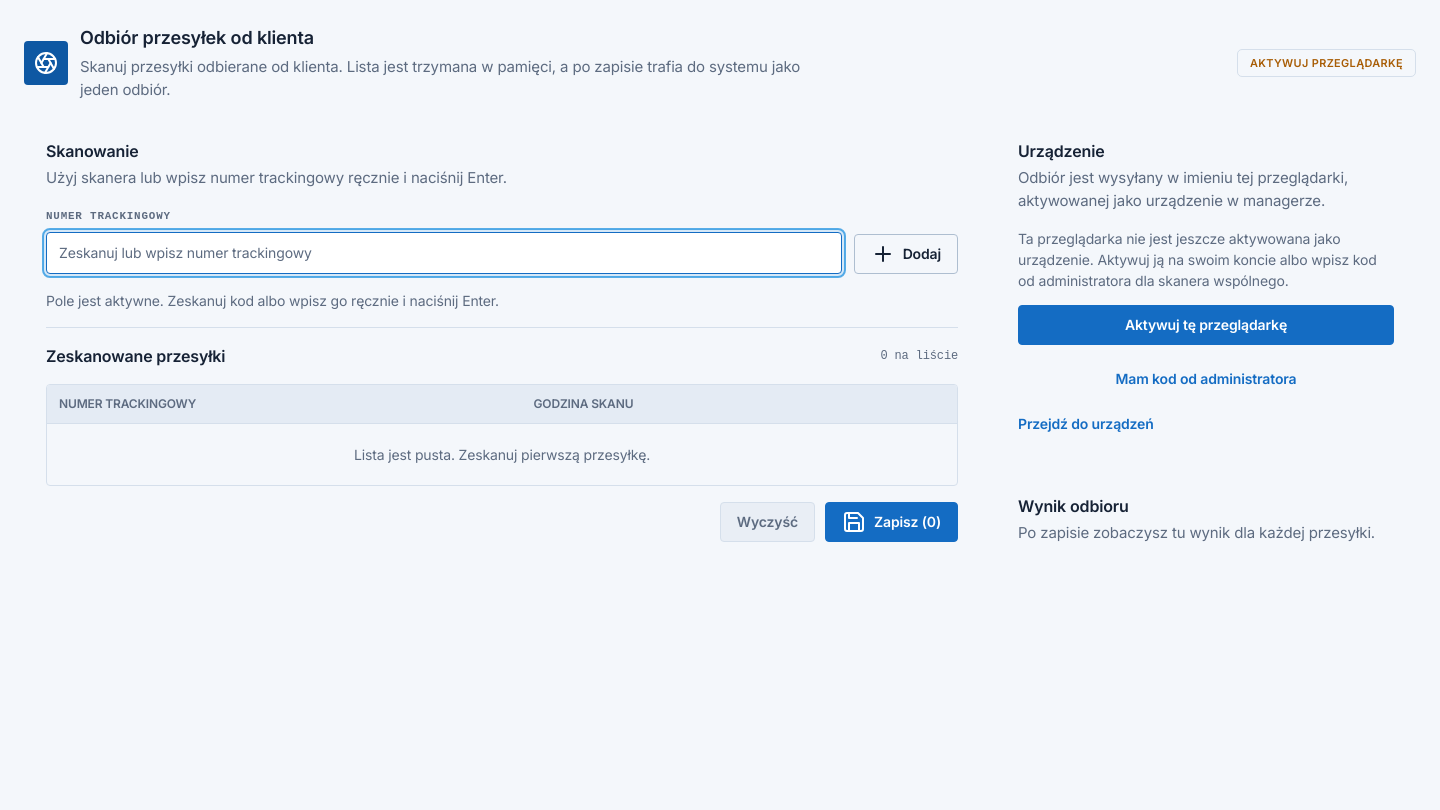
Test: ShipmentScanner › keeps scanned shipments in memory and rejects duplicates
Expected: the button "Aktywuj tę przeglądarkę" is shown, [1018,305,1394,345]
Type " TRK-001 " into the field labelled "Numer trackingowy". click: point(444, 252)
box: [46,232,842,274]
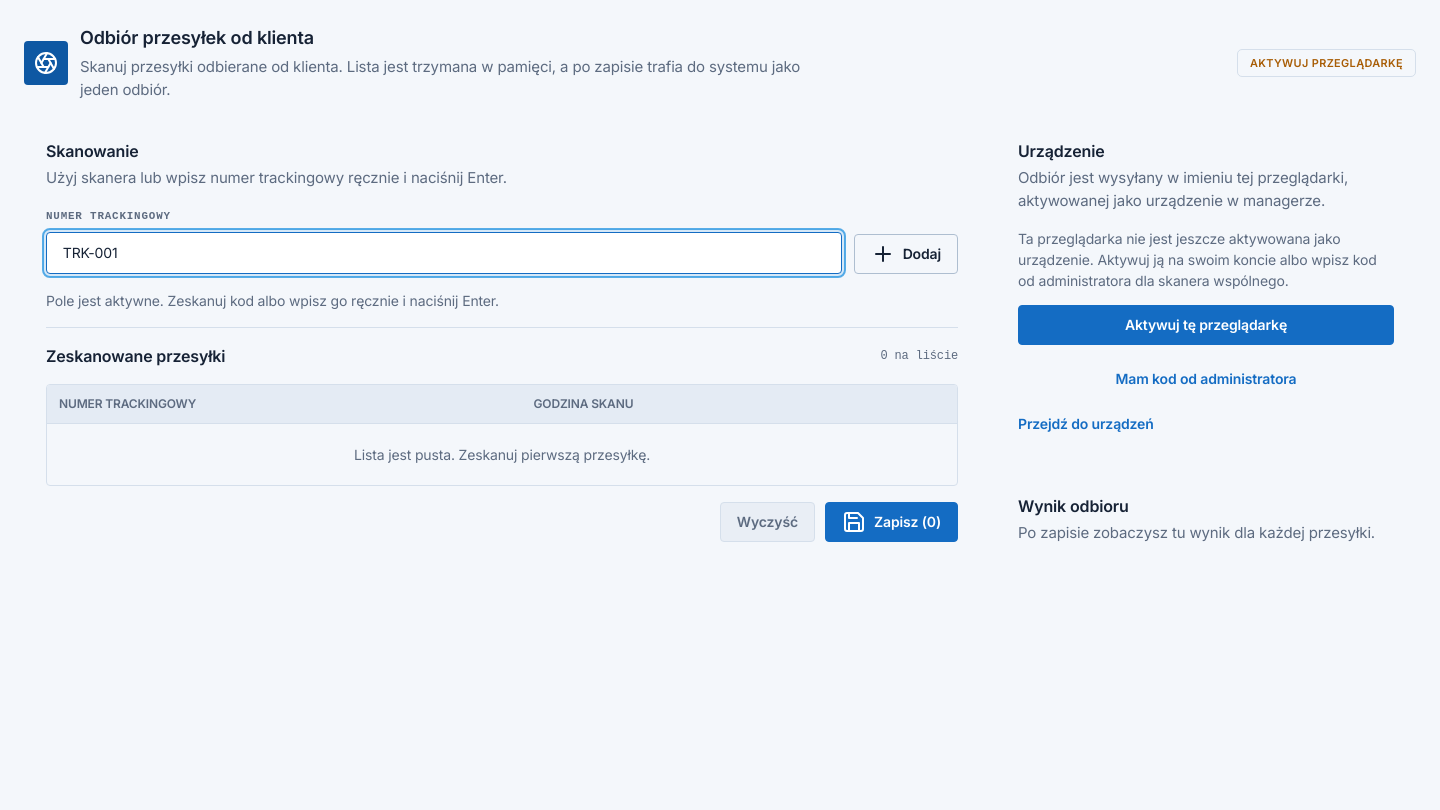
Click the button "Dodaj". click: point(906, 254)
box: [854,234,958,274]
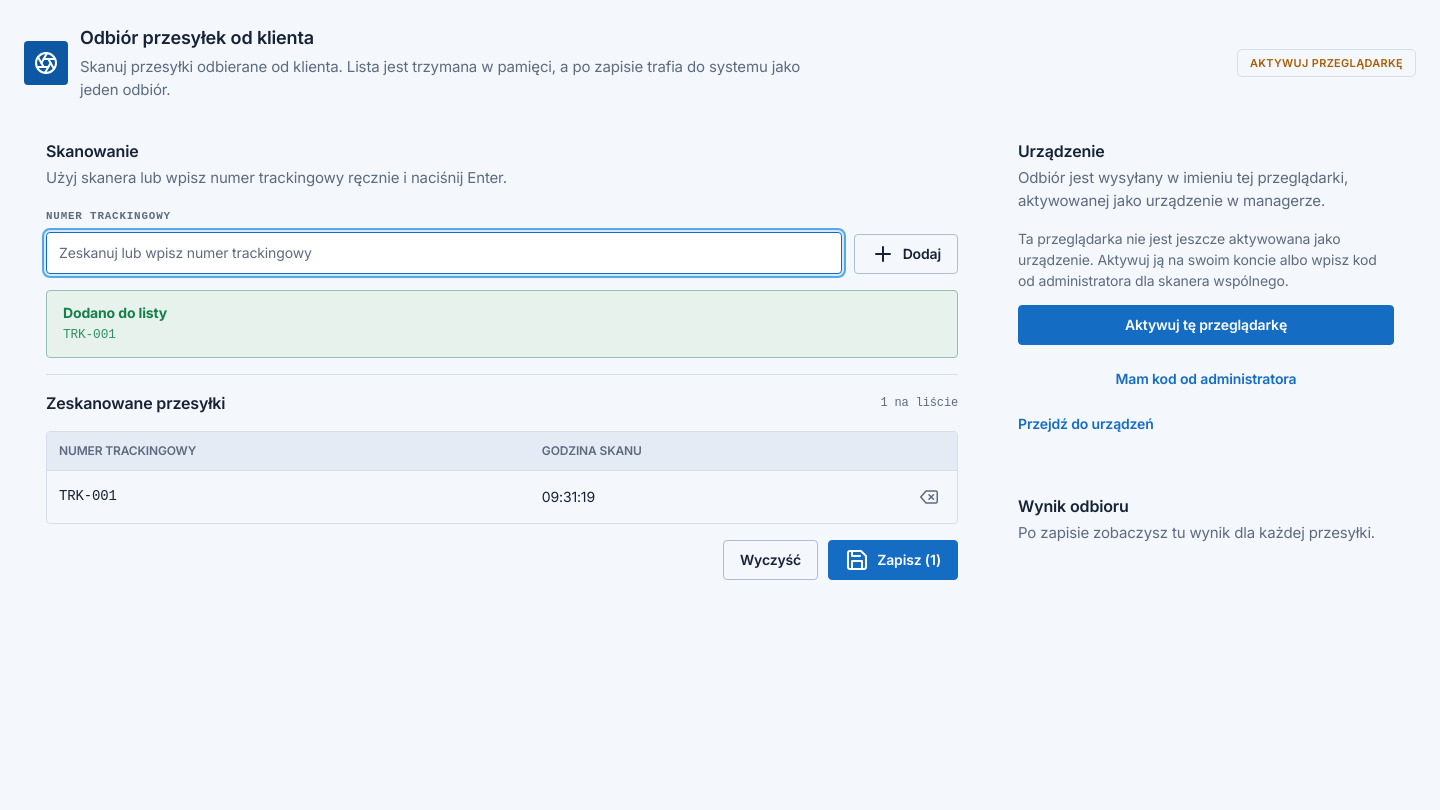
Type "TRK-001" into the field labelled "Numer trackingowy". click: point(444, 252)
box: [46,232,842,274]
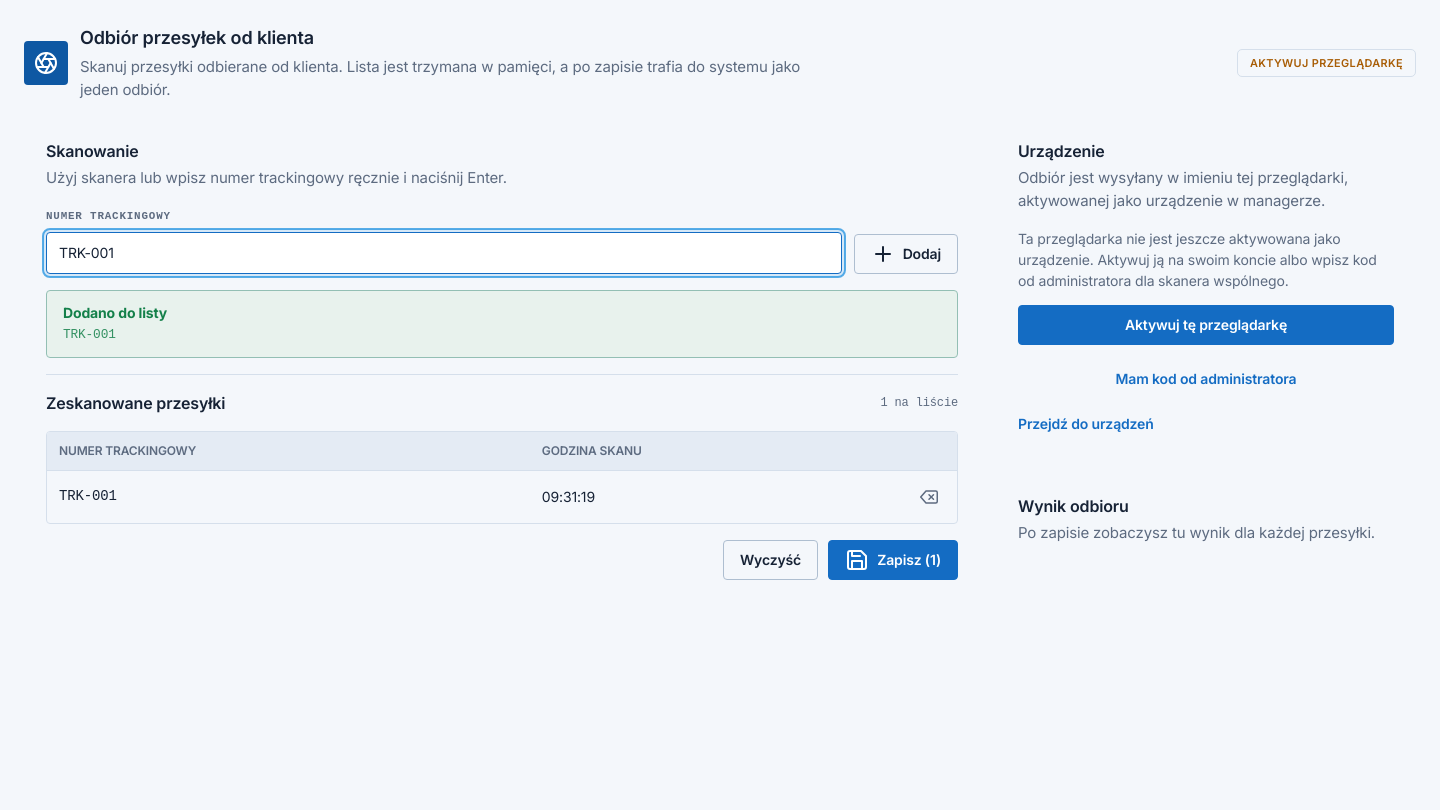
Click the button "Dodaj". click: point(906, 254)
box: [854,234,958,274]
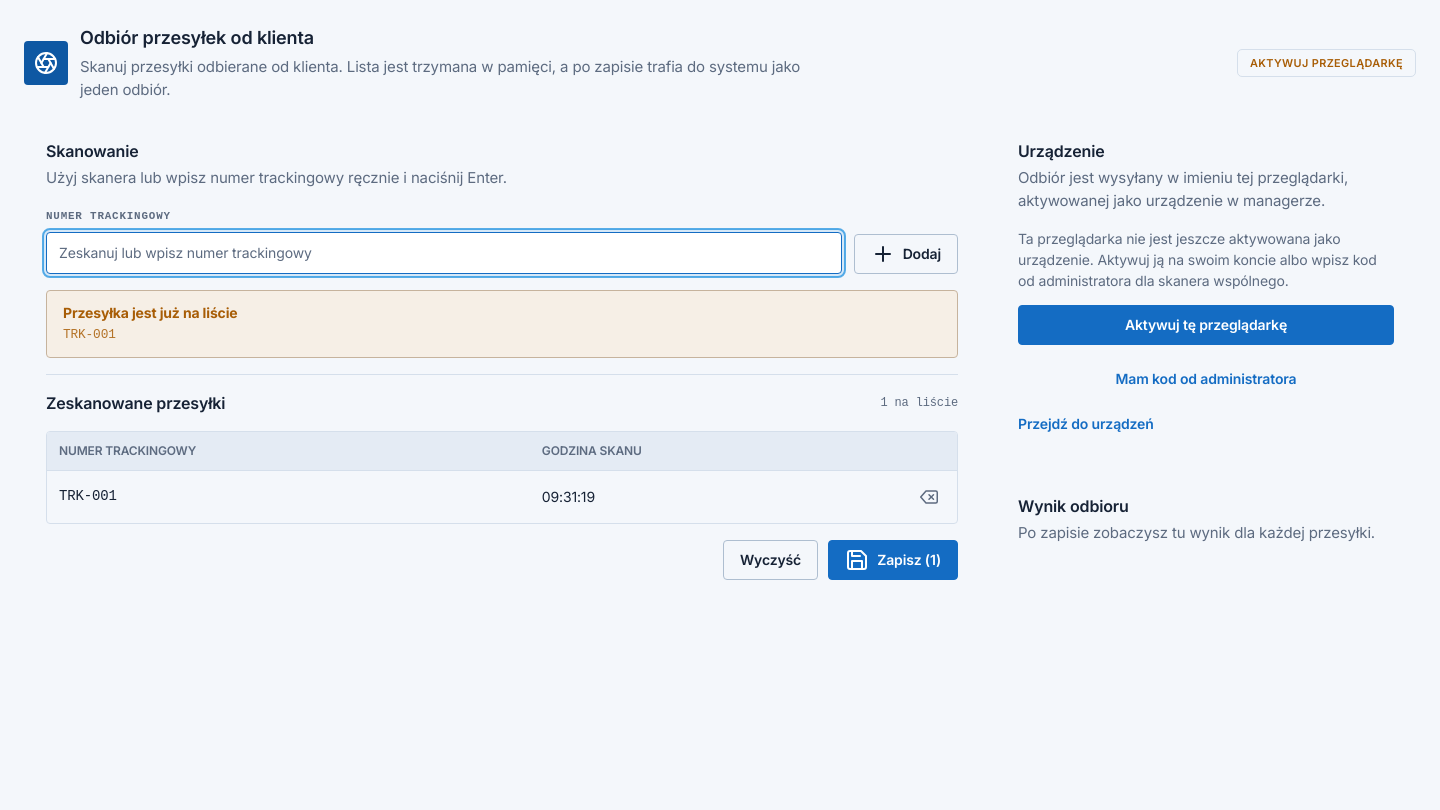
Result: the text "Przesyłka jest już na liście" is shown at [63,304,238,320]
